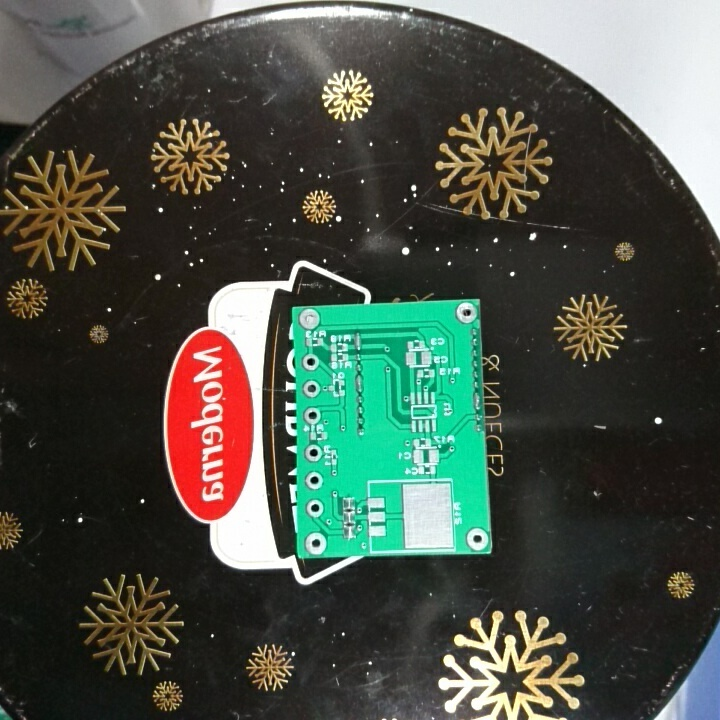F: (463, 523, 491, 552), (302, 529, 328, 556), (296, 307, 322, 332), (453, 300, 478, 326), (303, 497, 326, 522), (302, 469, 325, 492), (299, 378, 322, 400), (302, 441, 324, 464), (299, 352, 320, 373), (302, 405, 323, 425)
P: (352, 372, 367, 395), (351, 329, 364, 352), (471, 392, 484, 414)
